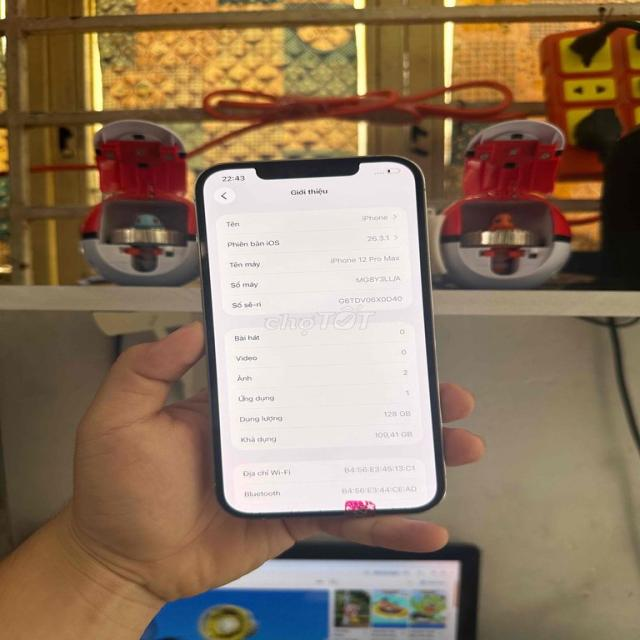gen_12_13: (198, 153, 448, 524)
